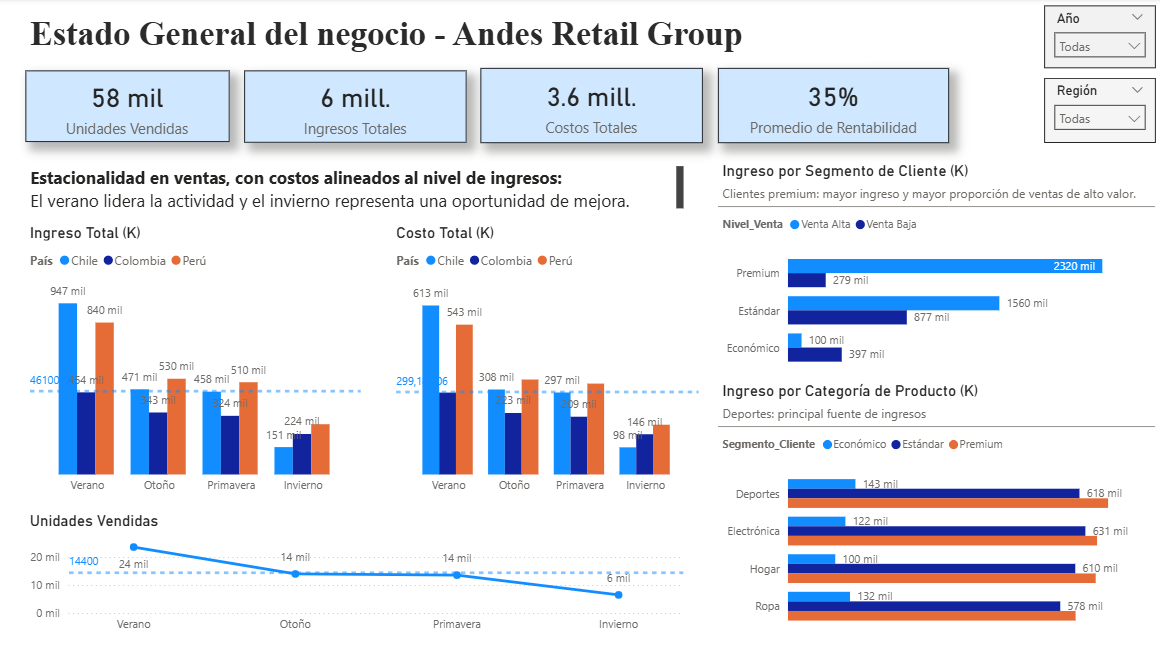

This screenshot's page, from the dashboard's own definition file:
{"tool":"powerbi","page":{"name":"Overview","canvas":[1280,720],"ordinal":0},"visuals":[{"type":"card","fields":{"Values":["Sum(Andes_Retail_Group_2024_2025.Unidades_Vendidas)"]},"box":[30.2,79.6,223.7,78.2],"z":0},{"type":"card","fields":{"Values":["Avg(Andes_Retail_Group_2024_2025.Rentabilidad)"]},"box":[790.4,76.8,253.9,82.3],"z":1000},{"type":"card","fields":{"Values":["Sum(Andes_Retail_Group_2024_2025.Ingresos)"]},"box":[270.3,79.6,244.3,79.6],"z":2000},{"type":"card","fields":{"Values":["Sum(Andes_Retail_Group_2024_2025.Costo)"]},"box":[529.7,76.8,244.3,82.3],"z":3000},{"type":"slicer","fields":{"Values":["Andes_Retail_Group_2024_2025.Fecha_Pedido.Variación.Jerarquía de fechas.Año"]},"box":[1148.5,8.2,122.1,68.6],"z":4000},{"type":"clusteredColumnChart","title":"Ingreso Total (K)","fields":{"Category":["Andes_Retail_Group_2024_2025.Estación"],"Series":["Andes_Retail_Group_2024_2025.País"],"Y":["Sum(Andes_Retail_Group_2024_2025.Ingresos)"]},"box":[30.2,247,373.2,306],"z":5000},{"type":"clusteredColumnChart","title":"Costo Total (K)","fields":{"Category":["Andes_Retail_Group_2024_2025.Estación"],"Series":["Andes_Retail_Group_2024_2025.País"],"Y":["Sum(Andes_Retail_Group_2024_2025.Costo)"]},"box":[432.2,247,341.7,306],"z":6000},{"type":"lineChart","title":"Unidades Vendidas","fields":{"Category":["Andes_Retail_Group_2024_2025.Estación"],"Y":["Sum(Andes_Retail_Group_2024_2025.Unidades Vendidas)"]},"box":[30.2,564,727.3,141.3],"z":7000},{"type":"slicer","fields":{"Values":["Andes_Retail_Group_2024_2025.Región"]},"box":[1148.5,87.8,122.1,71.4],"z":8000},{"type":"textbox","box":[30.2,12.3,926.2,57.6],"z":9000},{"type":"clusteredBarChart","title":"Ingreso por Segmento de Cliente (K)","fields":{"Category":["Andes_Retail_Group_2024_2025.Segmento_Cliente"],"Series":["Andes_Retail_Group_2024_2025.Nivel_Venta"],"Y":["Sum(Andes_Retail_Group_2024_2025.Ingresos)"]},"box":[790.4,179.8,480.3,241.5],"z":10000},{"type":"clusteredBarChart","title":"Ingreso por Categoría de Producto (K)","fields":{"Category":["Andes_Retail_Group_2024_2025.Categoría_Producto"],"Y":["Sum(Andes_Retail_Group_2024_2025.Ingresos)"],"Series":["Andes_Retail_Group_2024_2025.Segmento_Cliente"]},"box":[790.4,421.3,480.3,284],"z":11000},{"type":"textbox","box":[30.2,179.8,727.3,57.6],"z":12000}]}

Visuals, with their boxes in screenshot pixels (x1, y1, x2, y2), scaled from the page's 1280x720 canvas onto the 1160x651 screenshot:
card - Sum(Andes_Retail_Group_2024_2025.Unidades_Vendidas): left=27, top=72, right=230, bottom=143
card - Avg(Andes_Retail_Group_2024_2025.Rentabilidad): left=716, top=69, right=946, bottom=144
card - Sum(Andes_Retail_Group_2024_2025.Ingresos): left=245, top=72, right=466, bottom=144
card - Sum(Andes_Retail_Group_2024_2025.Costo): left=480, top=69, right=701, bottom=144
slicer - Andes_Retail_Group_2024_2025.Fecha_Pedido.Variación.Jerarquía de fechas.Año: left=1041, top=7, right=1151, bottom=69
"Ingreso Total (K)" clusteredColumnChart: left=27, top=223, right=366, bottom=500
"Costo Total (K)" clusteredColumnChart: left=392, top=223, right=701, bottom=500
"Unidades Vendidas" lineChart: left=27, top=510, right=686, bottom=638
slicer - Andes_Retail_Group_2024_2025.Región: left=1041, top=79, right=1151, bottom=144
textbox: left=27, top=11, right=867, bottom=63
"Ingreso por Segmento de Cliente (K)" clusteredBarChart: left=716, top=163, right=1152, bottom=381
"Ingreso por Categoría de Producto (K)" clusteredBarChart: left=716, top=381, right=1152, bottom=638
textbox: left=27, top=163, right=686, bottom=215
